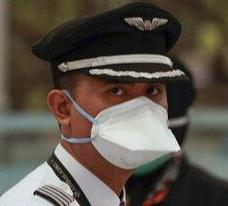OK: (83, 71, 172, 171)
